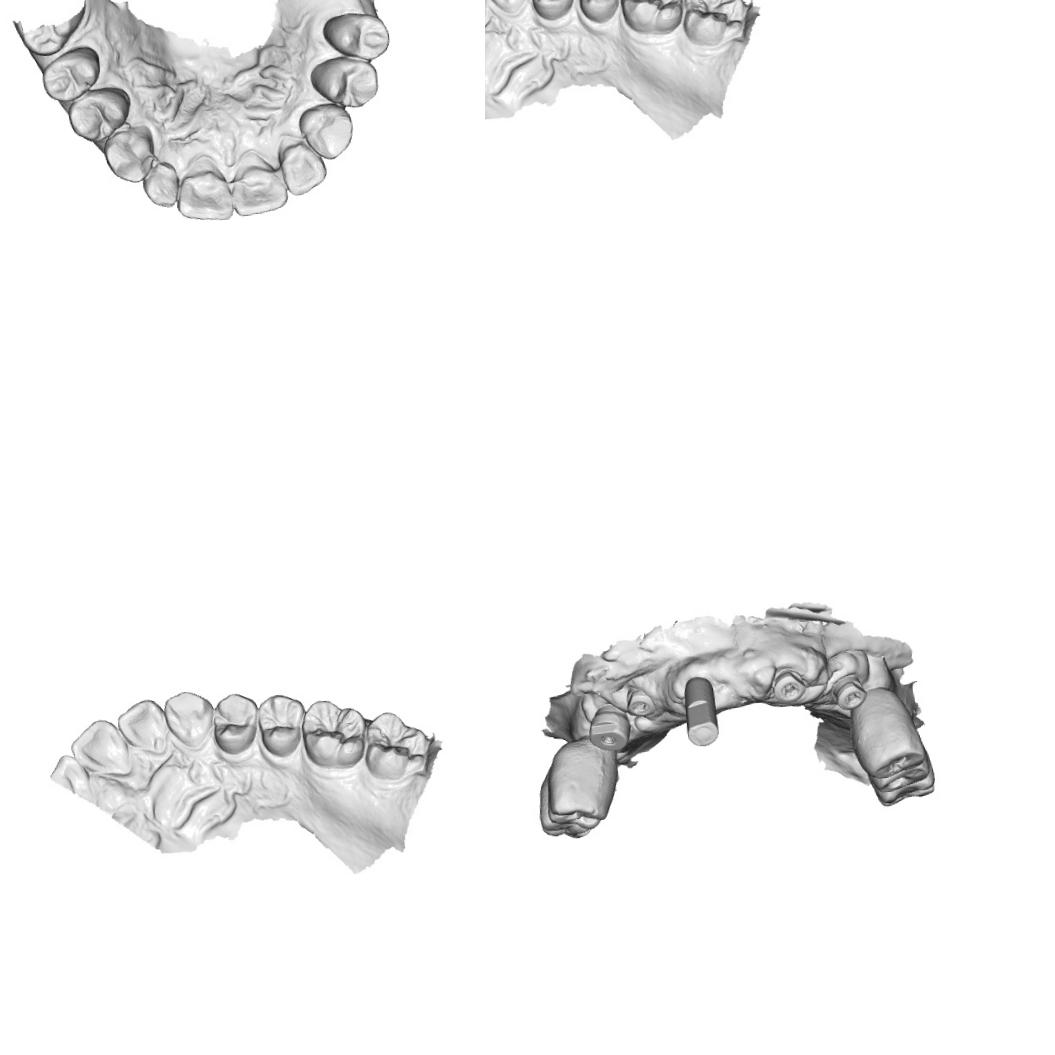canine: (93, 121, 160, 188), (66, 714, 132, 778), (298, 101, 358, 164), (113, 696, 171, 754), (161, 688, 216, 747)
implant: (674, 676, 725, 749), (582, 698, 640, 756), (767, 658, 811, 712), (825, 669, 873, 718)
incisor: (172, 150, 240, 226), (229, 147, 294, 219), (278, 133, 329, 199), (138, 156, 184, 210)
molar: (297, 696, 370, 774), (360, 706, 432, 783), (678, 0, 749, 49), (615, 0, 687, 39)
premolar: (844, 681, 924, 782), (540, 733, 618, 831), (306, 50, 384, 113), (62, 82, 136, 146), (318, 6, 393, 66), (37, 42, 104, 106), (534, 774, 592, 844), (253, 690, 308, 760), (863, 748, 938, 796), (210, 688, 262, 756), (869, 780, 941, 809), (571, 0, 626, 25), (528, 0, 580, 22)
